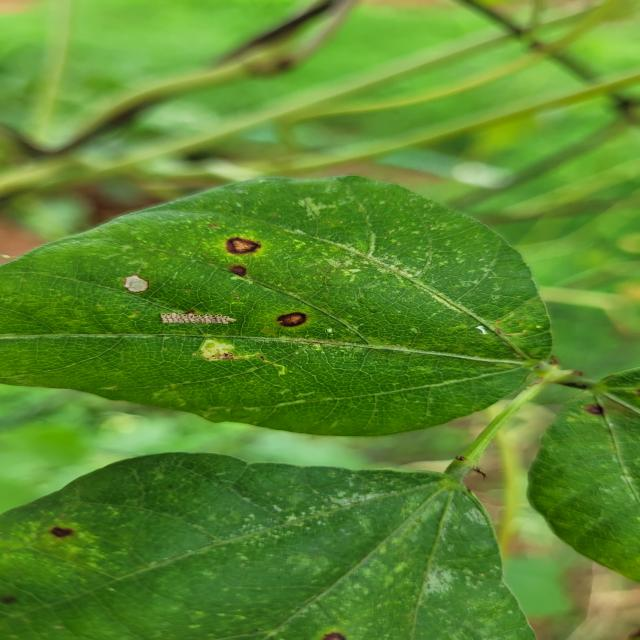Dolicos bean_cercospora leaf spot: (0, 170, 556, 435)
